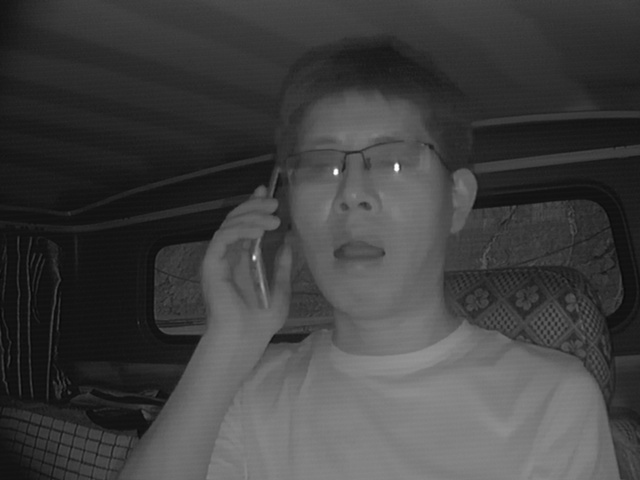hand: (201, 191, 298, 342)
